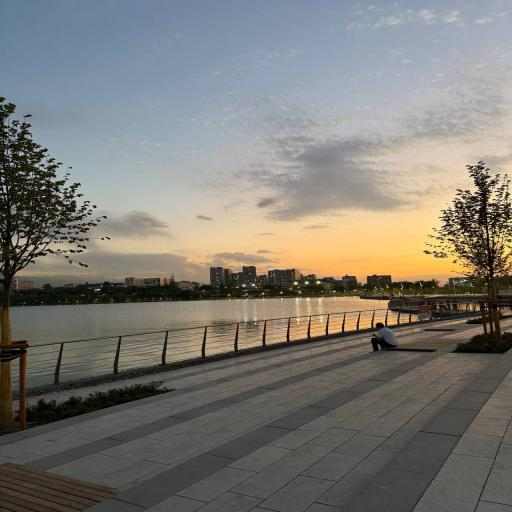laptop: (372, 323, 397, 351)
shelf: (0, 334, 511, 511)
